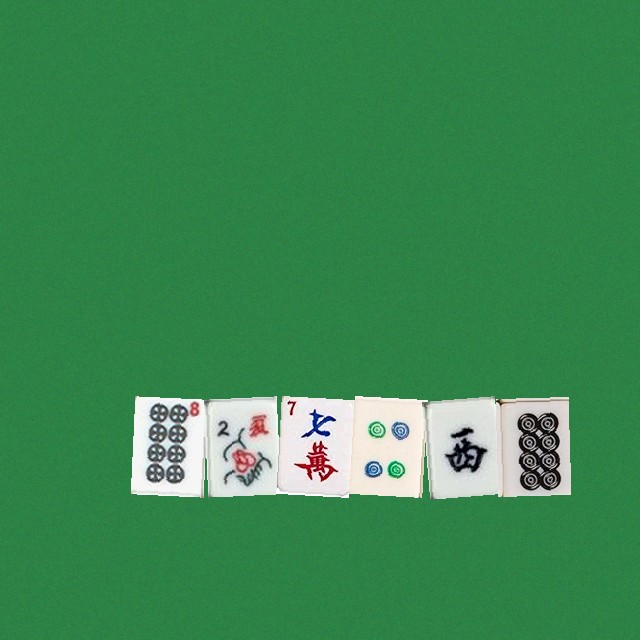tile: (130, 396, 203, 494), (203, 396, 276, 494), (276, 396, 349, 494), (349, 396, 422, 494), (422, 396, 495, 494), (495, 396, 568, 494)
